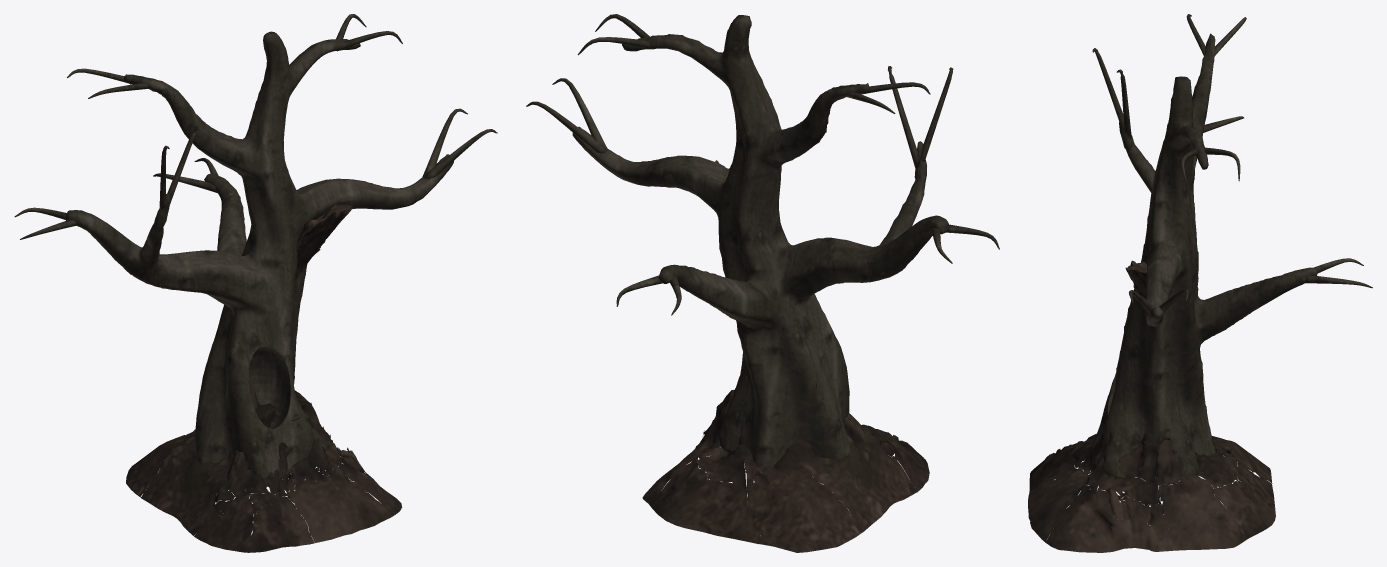
File: RF_Ancient_Rotten_Tree.fbx
3 views of the same model, side by side, from view 1: azimuth 30°, elevation 25°; view 2: azimuth 150°, elevation 25°; view 3: azimuth 270°, elevation 25° (orthographic). The views are drawn at different scales.
Visible parts, largest first — view 1: RF_Ancient_Rotten_Tree; view 2: RF_Ancient_Rotten_Tree; view 3: RF_Ancient_Rotten_Tree.
Boxes of the visible parts, bbox=[...] form: RF_Ancient_Rotten_Tree: bbox=[14, 14, 497, 552]; RF_Ancient_Rotten_Tree: bbox=[526, 14, 999, 552]; RF_Ancient_Rotten_Tree: bbox=[1028, 14, 1372, 552].
Size of the model in its own units: 844 by 806 by 571.
